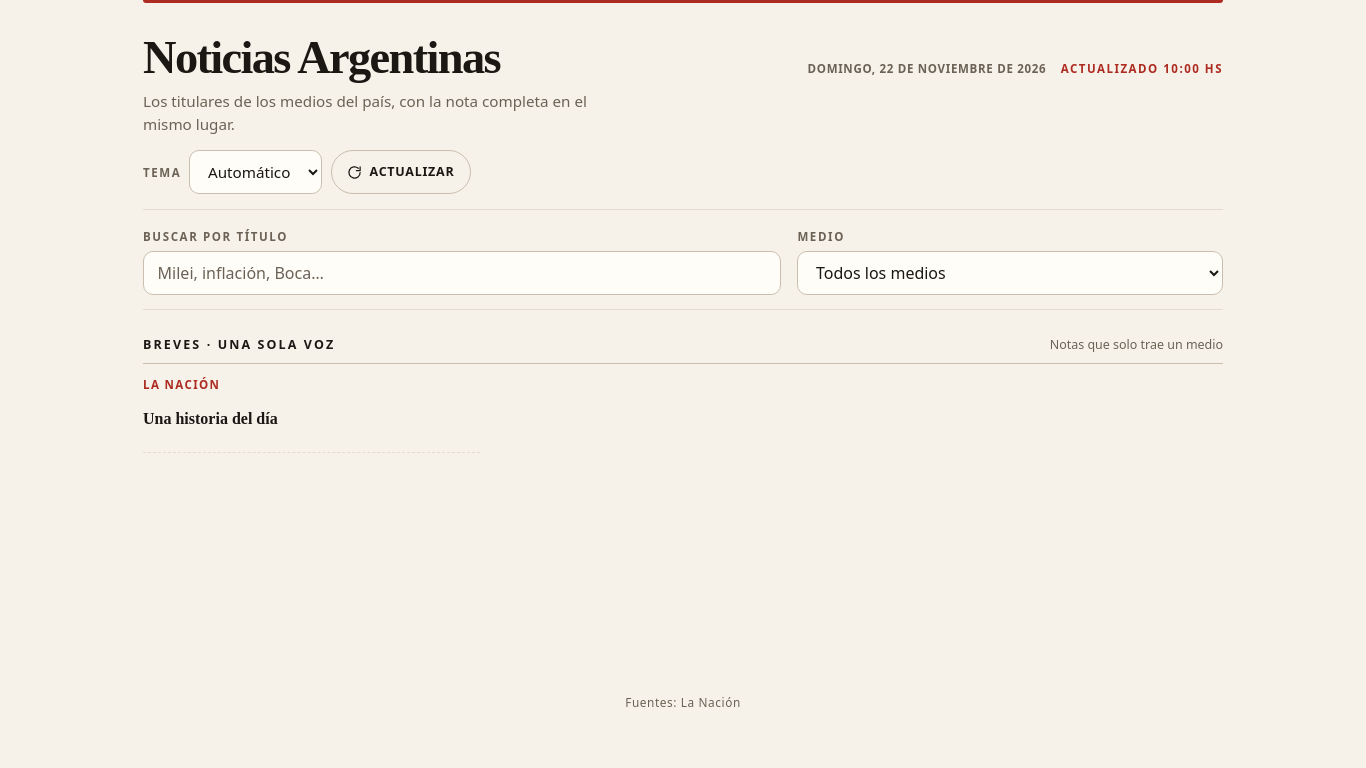
App speech integration › speaks the title and body when the user presses Escuchar
Click the button "Una historia del día" at (210, 419), box x1=143 y1=397 x2=480 y2=441
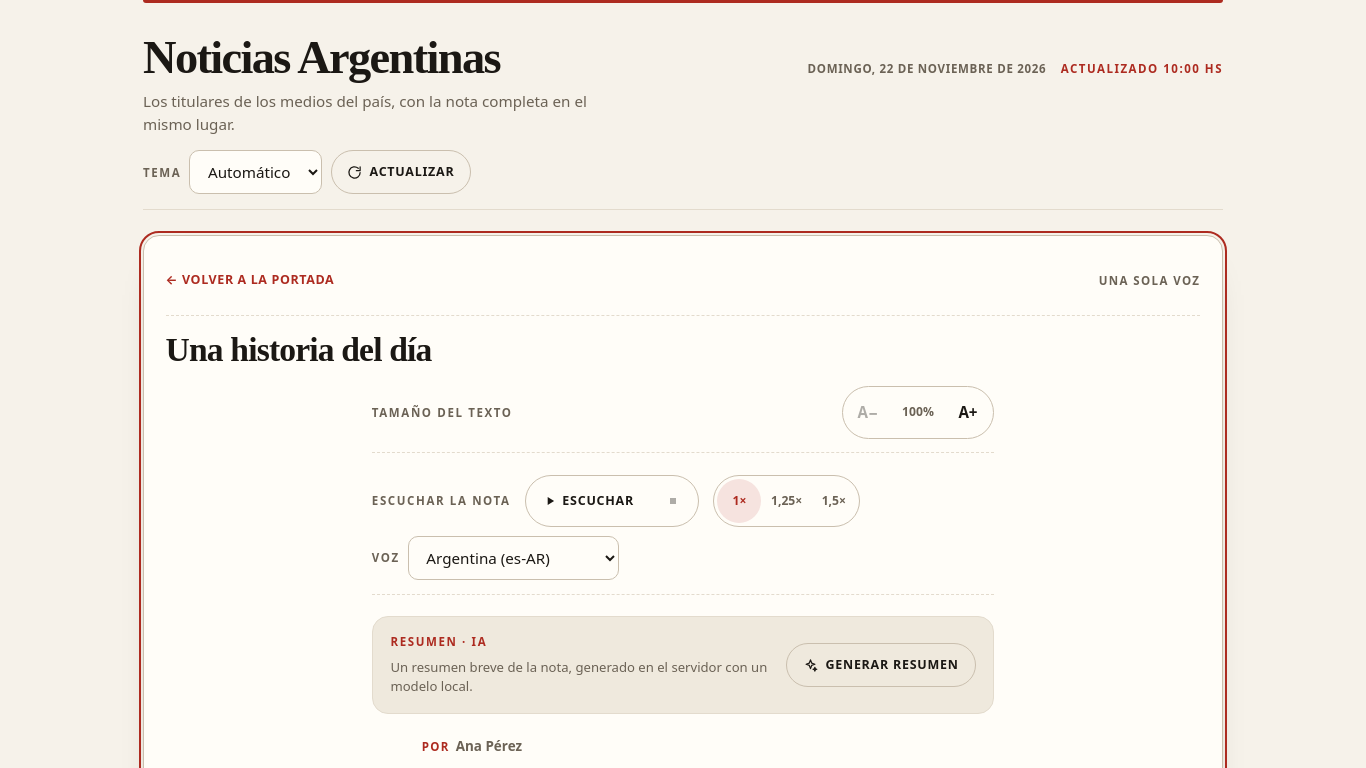
Click the button "Escuchar" at (588, 501), box x1=529 y1=479 x2=648 y2=523
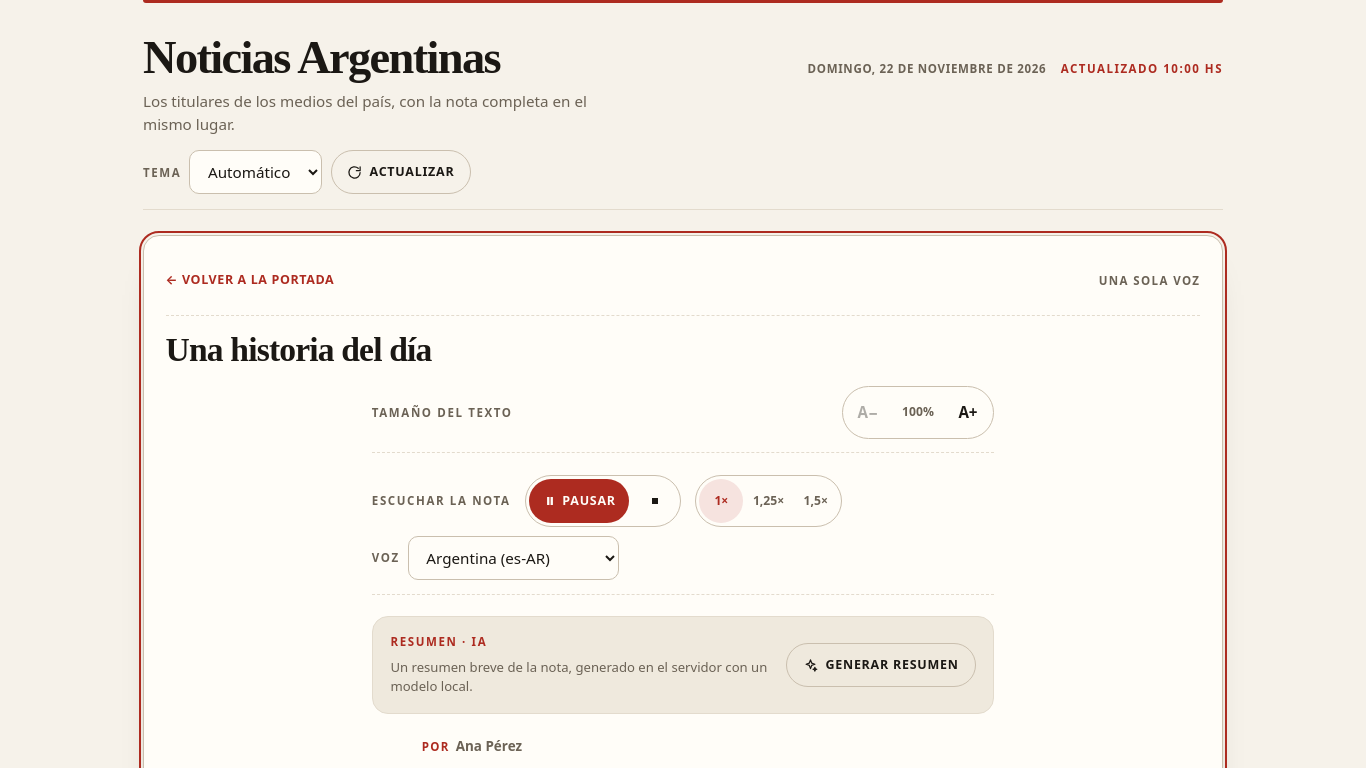
Expected: the heading "Una historia del día" is shown, x1=166 y1=331 x2=432 y2=368
Expected: the button "Pausar" is shown, x1=529 y1=479 x2=629 y2=523
